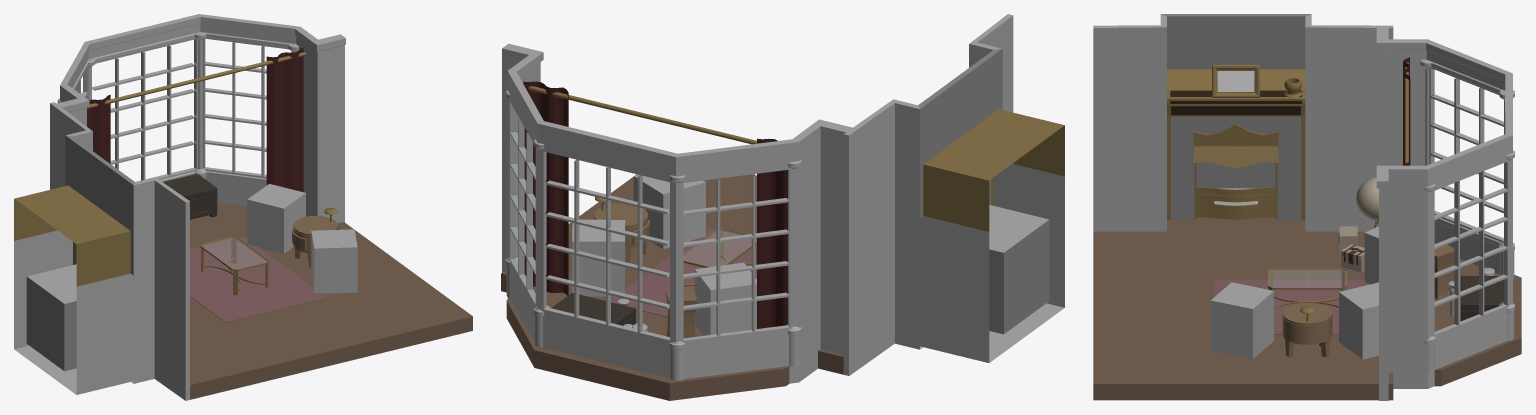
Rendered from MiskatonicApartmentWIP.fbx.
3 renders of one model, left to right at view 1: azimuth 30°, elevation 25°; view 2: azimuth 150°, elevation 25°; view 3: azimuth 270°, elevation 25°, orthographic. The views are drawn at different scales.
Visible parts, largest first — view 1: floor_mesh, hearth_mesh, fireplaceWall_mesh, phWall_mesh9, phRug_mesh, curtains2_mesh, phWickerChair_mesh2, phWickerChair_mesh1, coffeeTable_glass_mesh, decorativeChest_mesh, curtains1_mesh, top_banister_mesh (+7 smaller); view 2: phWall_mesh9, hearth_mesh, fireplaceWall_mesh, floor_mesh, curtains2_mesh, curtains1_mesh, phWickerChair_mesh3, phRug_mesh, phWickerChair_mesh2, phWickerChair_mesh1, coffeeTable_glass_mesh, decorativeChest_mesh (+19 smaller); view 3: floor_mesh, fireplaceWall_mesh, phWall_mesh9, hearth_mesh, phWickerChair_mesh1, firePLaceHood_mesh, phWickerChair_mesh2, phRug_mesh, endtable_mesh, coffeeTable_glass_mesh, fireplace_shield, photoframe_mesh (+19 smaller).
Boxes of the visible parts, x1,y1,x2,y2 form: floor_mesh: (190, 202, 472, 399); hearth_mesh: (14, 185, 133, 394); fireplaceWall_mesh: (50, 102, 189, 400); phWall_mesh9: (56, 14, 345, 223); phRug_mesh: (190, 236, 327, 322); curtains2_mesh: (266, 47, 303, 192); phWickerChair_mesh2: (247, 184, 305, 253); phWickerChair_mesh1: (311, 229, 357, 293); coffeeTable_glass_mesh: (200, 236, 268, 295); decorativeChest_mesh: (163, 174, 217, 219); curtains1_mesh: (87, 94, 110, 163); top_banister_mesh: (72, 32, 295, 89); phWall_mesh9: (502, 43, 853, 383); hearth_mesh: (920, 109, 1064, 362); fireplaceWall_mesh: (843, 14, 1013, 375); floor_mesh: (501, 174, 843, 400); curtains2_mesh: (523, 81, 568, 295); curtains1_mesh: (757, 138, 787, 328); phWickerChair_mesh3: (694, 262, 756, 335); phRug_mesh: (611, 228, 756, 317); phWickerChair_mesh2: (572, 219, 625, 296); phWickerChair_mesh1: (633, 174, 705, 249); coffeeTable_glass_mesh: (683, 228, 756, 286); decorativeChest_mesh: (551, 293, 635, 325); floor_mesh: (1093, 231, 1521, 400); fireplaceWall_mesh: (1093, 14, 1393, 231); phWall_mesh9: (1376, 27, 1512, 400); hearth_mesh: (1167, 69, 1305, 231); phWickerChair_mesh1: (1210, 282, 1273, 358); firePLaceHood_mesh: (1193, 124, 1279, 168); phWickerChair_mesh2: (1339, 282, 1378, 359); phRug_mesh: (1215, 279, 1369, 334); endtable_mesh: (1282, 302, 1332, 357); coffeeTable_glass_mesh: (1268, 268, 1346, 308); fireplace_shield: (1196, 187, 1275, 219); photoframe_mesh: (1212, 64, 1259, 97).
Bounding box in the file's own units: 6.52 × 3.4 × 6.
